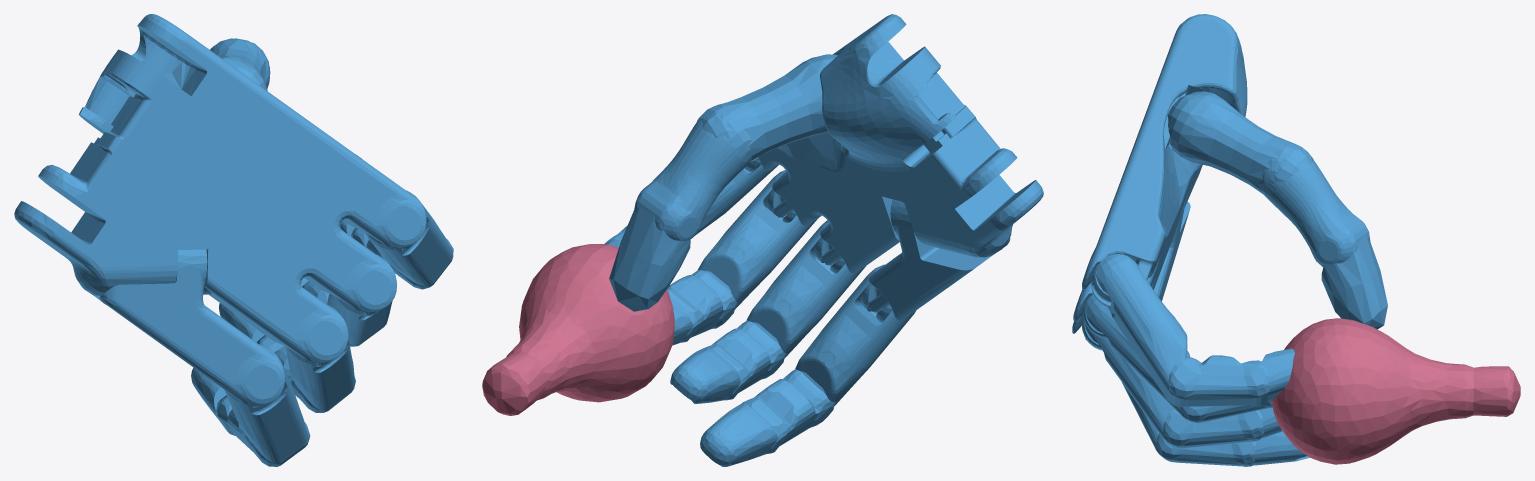
The picture shows the model from 3 angles, left to right: view 1: azimuth 30°, elevation 25°; view 2: azimuth 150°, elevation 25°; view 3: azimuth 270°, elevation 25°; orthographic projection. The views are drawn at different scales.
Parts seen in each view (by area): view 1: 8; view 2: 8; view 3: 8.
Boxes of the visible parts, x1,y1,x2,y2 form: 8: (14,14,453,466); 8: (482,14,1043,466); 8: (1072,14,1520,466).
Bounding box in the file's own units: 0.1622 × 0.1605 × 0.1609.
